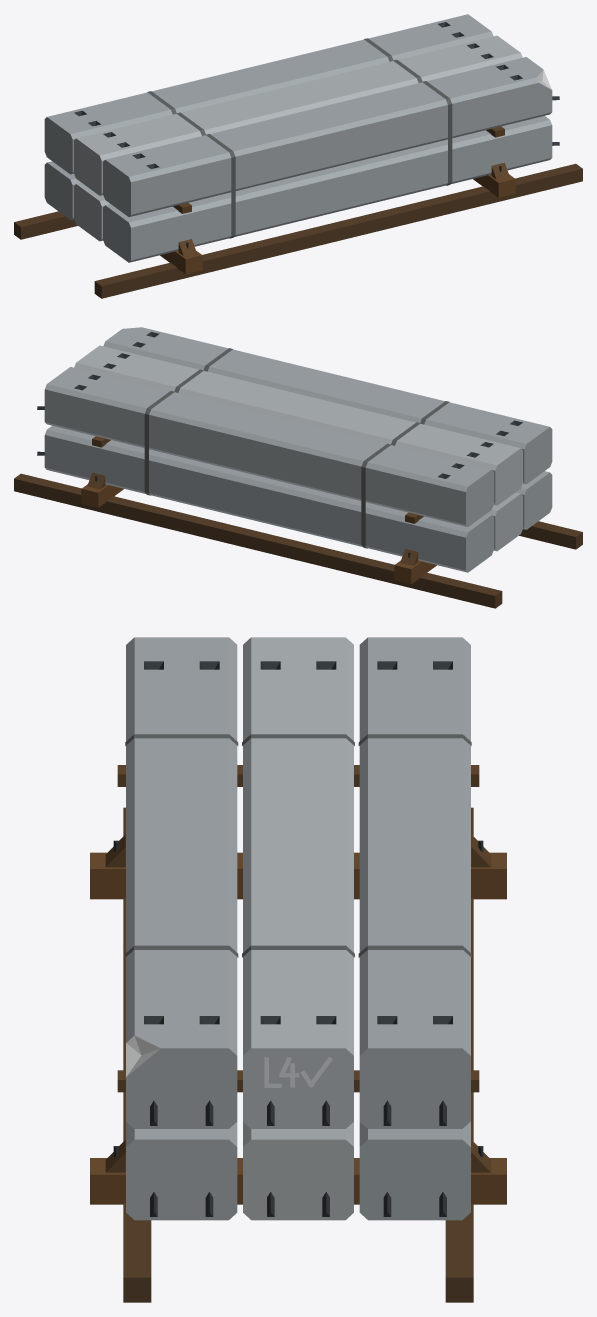
Rendered from precast-concrete-stack-8945ac.glb.
The picture shows the model from 3 angles, top to bottom: view 1: azimuth 30°, elevation 25°; view 2: azimuth 150°, elevation 25°; view 3: azimuth 270°, elevation 25°; orthographic projection. The views are drawn at different scales.
Visible parts, largest first — view 1: delivery, bearers; view 2: delivery, bearers; view 3: delivery, bearers.
Boxes of the visible parts, left/top/right/bottom form: delivery: left=44, top=14, right=559, bottom=262; bearers: left=14, top=162, right=582, bottom=298; delivery: left=37, top=327, right=552, bottom=572; bearers: left=14, top=472, right=582, bottom=608; delivery: left=117, top=637, right=479, bottom=1220; bearers: left=90, top=807, right=506, bottom=1302.
Bounding box in the file's own units: 4 × 0.896 × 1.5.
